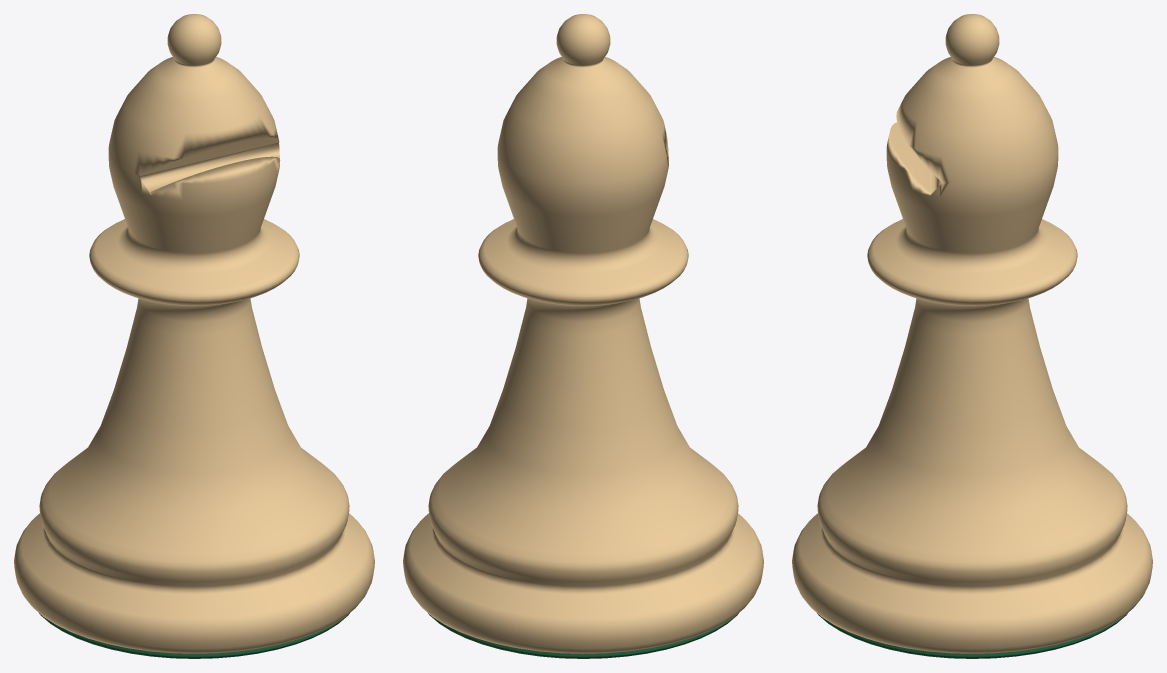
The model's file is bishop.glb.
3 views of the same model, side by side, from view 1: azimuth 30°, elevation 25°; view 2: azimuth 150°, elevation 25°; view 3: azimuth 270°, elevation 25° (orthographic).
Parts seen in each view (by area): view 1: Bishop, Felt; view 2: Bishop, Felt; view 3: Bishop, Felt.
Boxes of the visible parts, x1,y1,x2,y2 form: Bishop: (14, 14, 374, 653); Felt: (39, 613, 349, 658); Bishop: (403, 14, 763, 653); Felt: (428, 613, 738, 658); Bishop: (792, 14, 1152, 653); Felt: (817, 613, 1127, 658).
Bounding box in the file's own units: 0.064 × 0.112 × 0.064.
